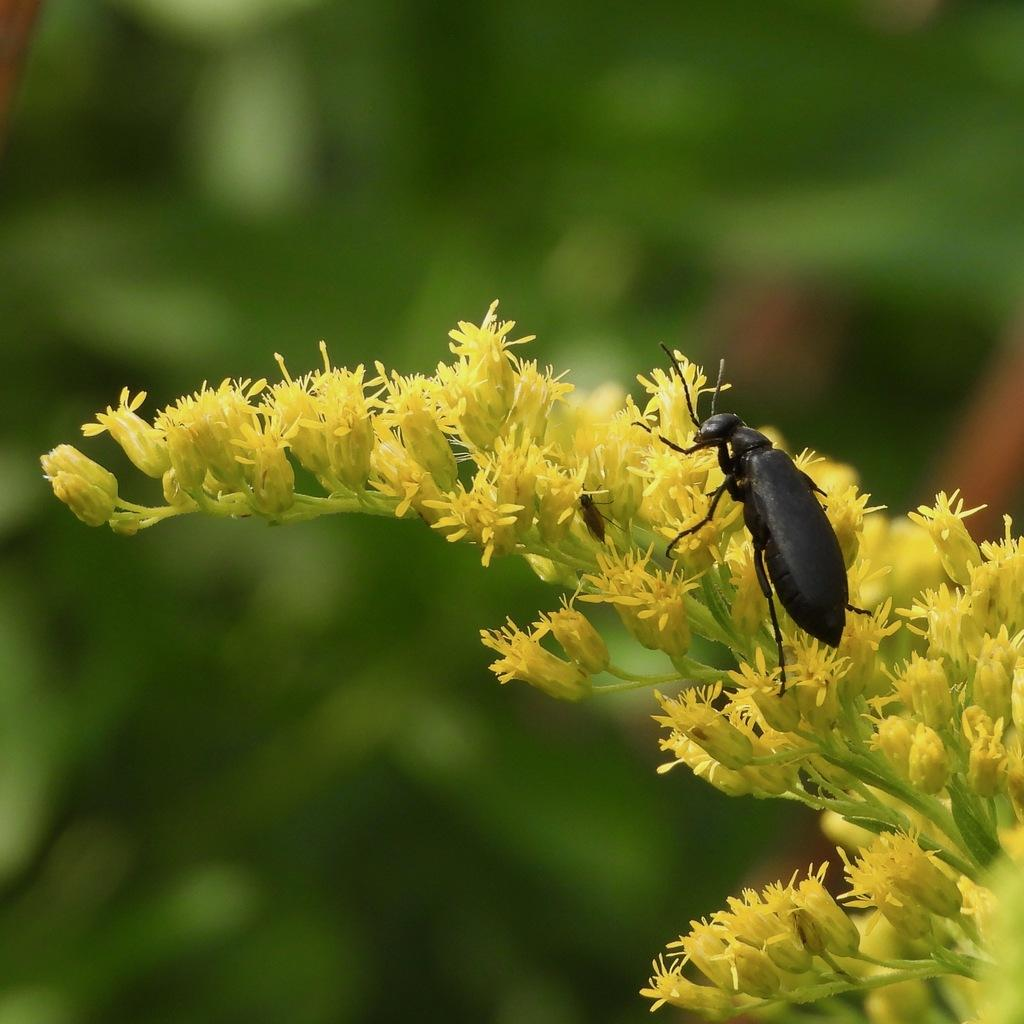blister_beetle: (596, 290, 935, 758)
